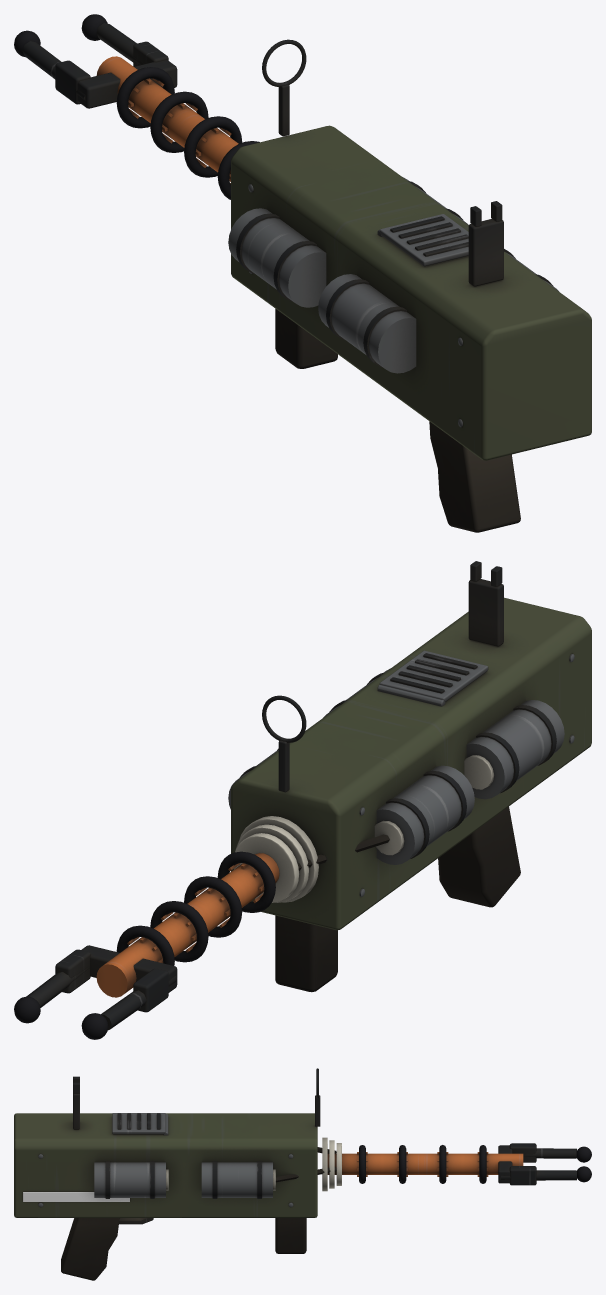
File: weapon_lightning.gltf
The picture shows the model from 3 angles, top to bottom: view 1: azimuth 30°, elevation 25°; view 2: azimuth 150°, elevation 25°; view 3: azimuth 270°, elevation 25°; orthographic projection. The views are drawn at different scales.
Visible parts, largest first — view 1: Body, Vent; view 2: Body, Vent; view 3: Body, Vent.
Boxes of the visible parts, left/top/right/bottom form: Body: left=14, top=14, right=591, bottom=532; Vent: left=377, top=214, right=468, bottom=266; Body: left=14, top=561, right=591, bottom=1039; Vent: left=377, top=650, right=488, bottom=706; Body: left=14, top=1068, right=591, bottom=1280; Vent: left=112, top=1113, right=168, bottom=1135.
Size of the model in its own units: 0.1464 by 0.2533 by 0.647.
Materials: 8 (8 with a texture image).
